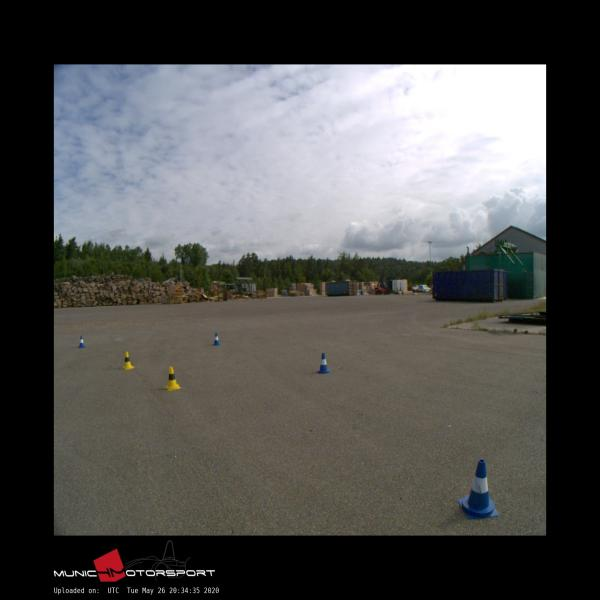blue_cone: (458, 460, 498, 519), (317, 353, 329, 373), (212, 333, 220, 345), (78, 336, 85, 348)
yellow_cone: (164, 366, 180, 390), (120, 352, 134, 369)
